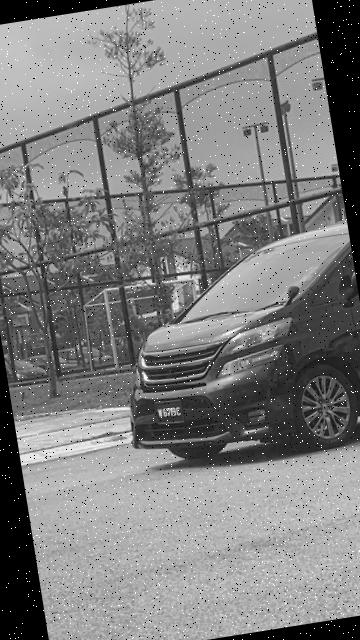License_Plate: (148, 399, 194, 429)
car: (94, 217, 360, 485)
